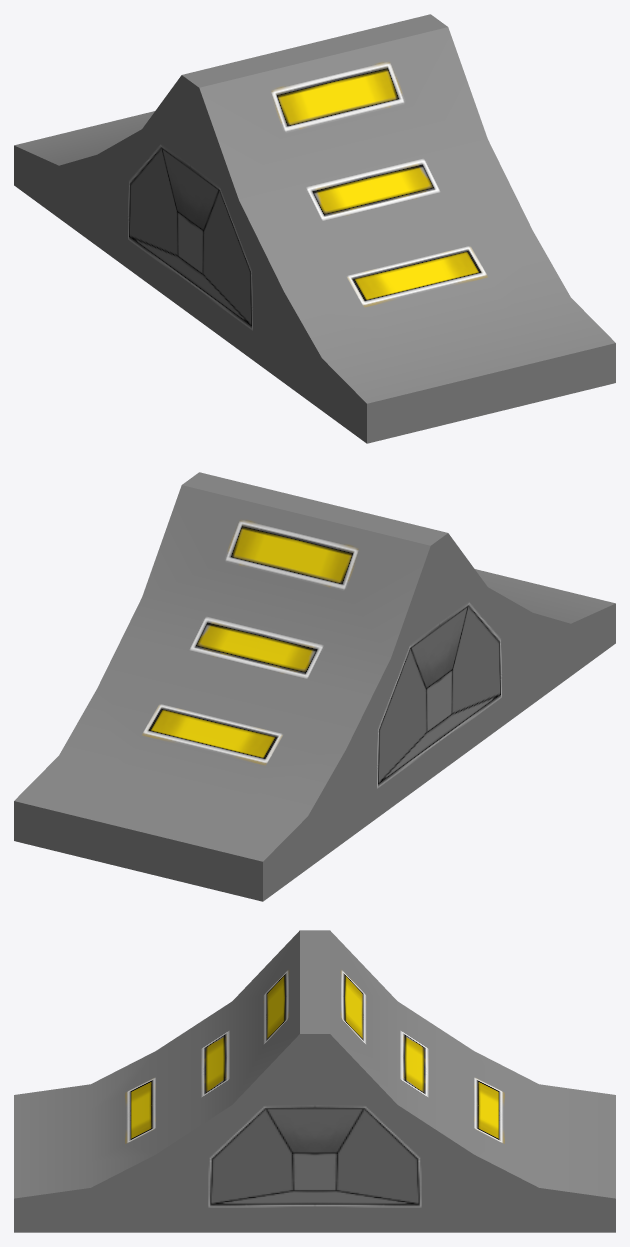
Rendered from space_halframp.gltf.
The picture shows the model from 3 angles, top to bottom: view 1: azimuth 30°, elevation 25°; view 2: azimuth 150°, elevation 25°; view 3: azimuth 270°, elevation 25°; orthographic projection. The views are drawn at different scales.
Visible parts, largest first — view 1: space_halframp_glb; view 2: space_halframp_glb; view 3: space_halframp_glb.
Boxes of the visible parts, x1,y1,x2,y2 form: space_halframp_glb: [14, 14, 615, 443]; space_halframp_glb: [14, 472, 615, 901]; space_halframp_glb: [14, 930, 615, 1232].
Size of what is drawn, in the model's own units: 1.63 by 1.46 by 4.
1 material, 1 textured.
